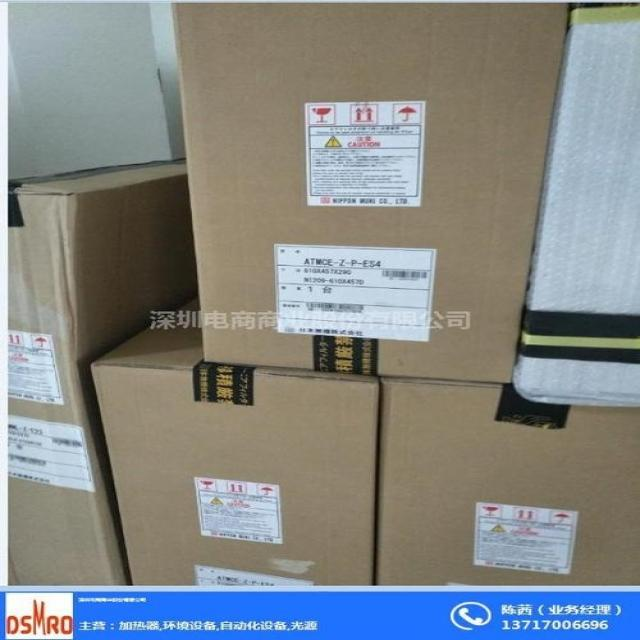box: (171, 3, 571, 385), (93, 290, 384, 587), (5, 159, 196, 587), (376, 376, 639, 586), (514, 7, 639, 406)
